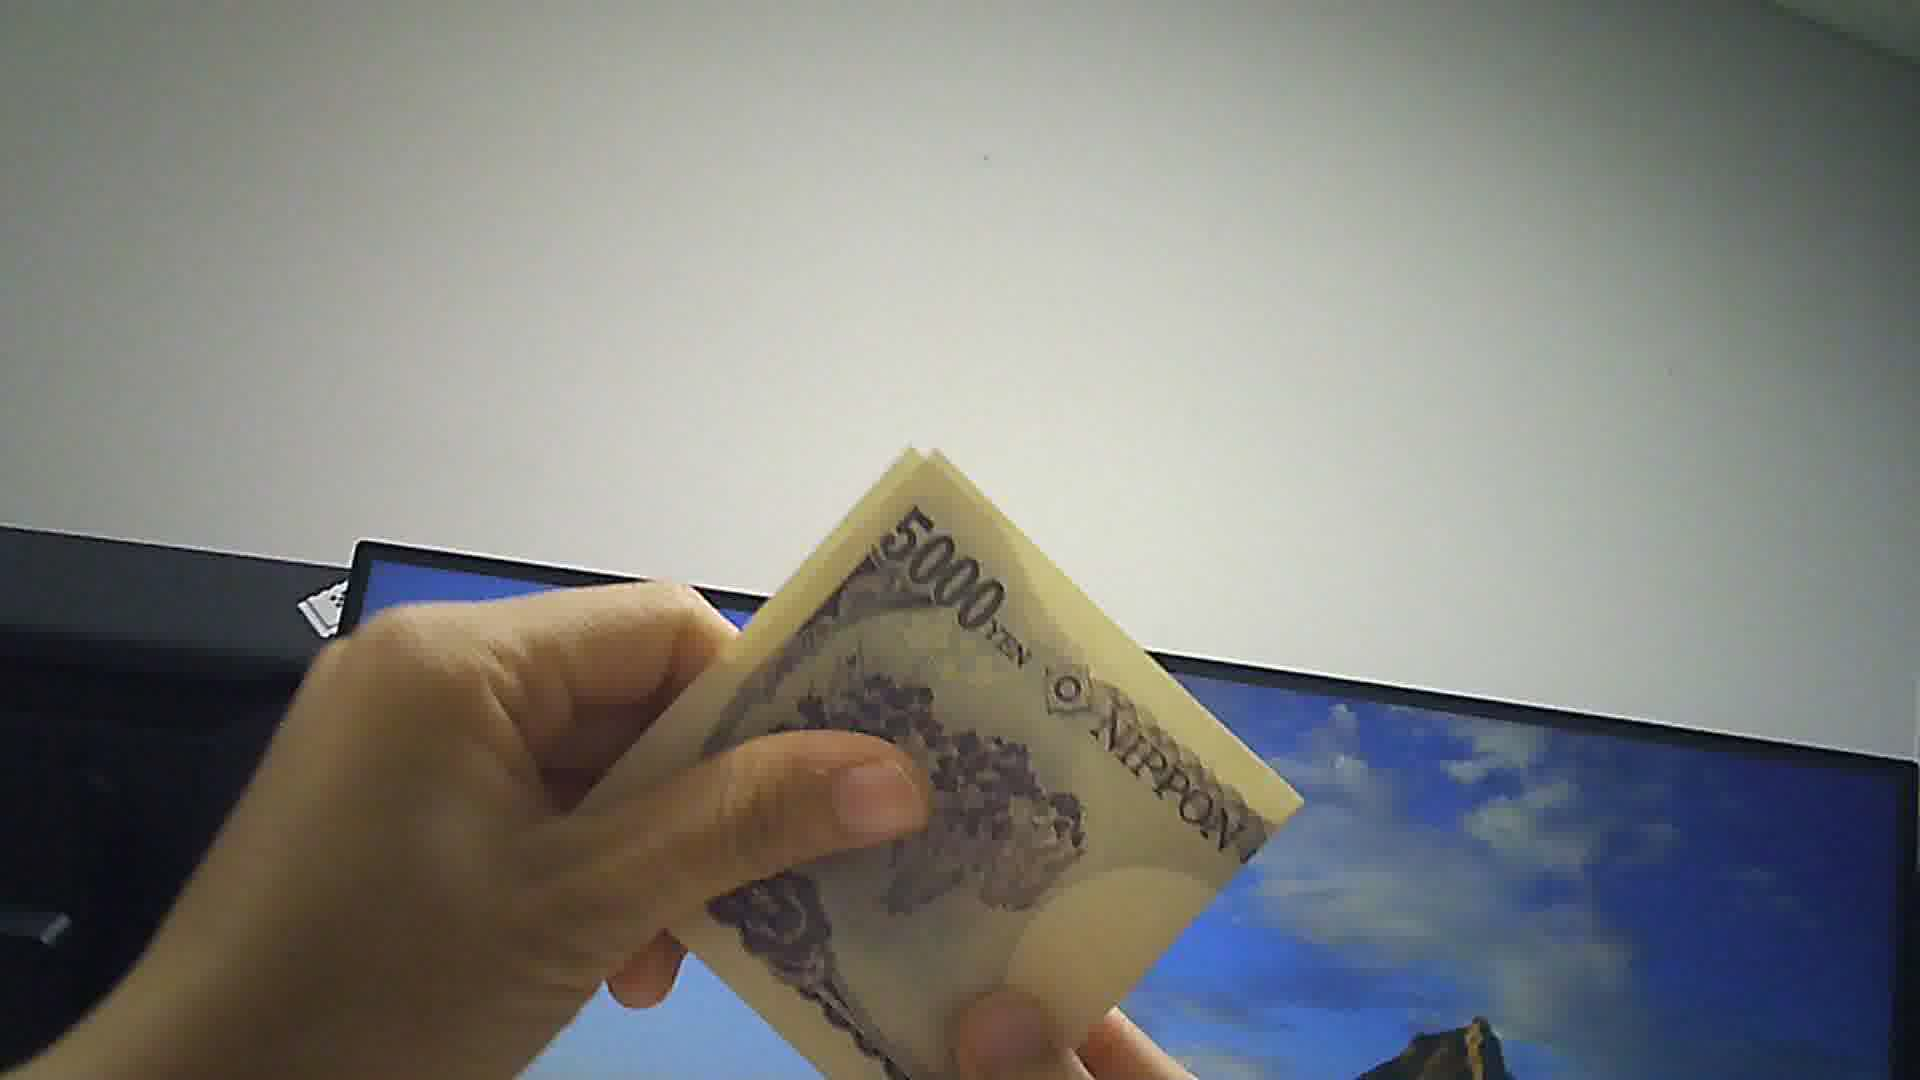5,000 Yen: (597, 427, 1307, 1079)
